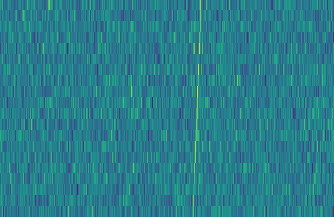signal: (188, 0, 205, 217)
